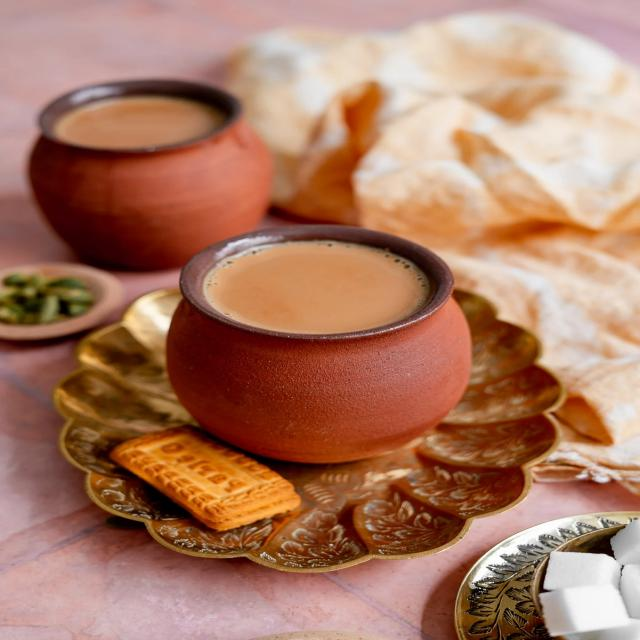Chai: (208, 236, 439, 339), (55, 90, 215, 147)
